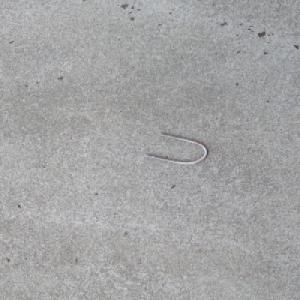ClampPart: (143, 133, 209, 165)
